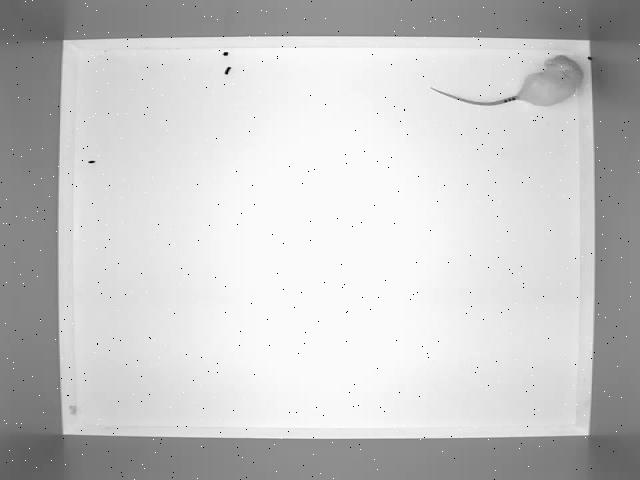Tikus: (426, 53, 588, 111)
